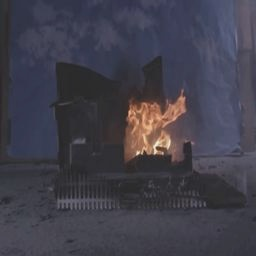fire: (117, 86, 196, 167)
